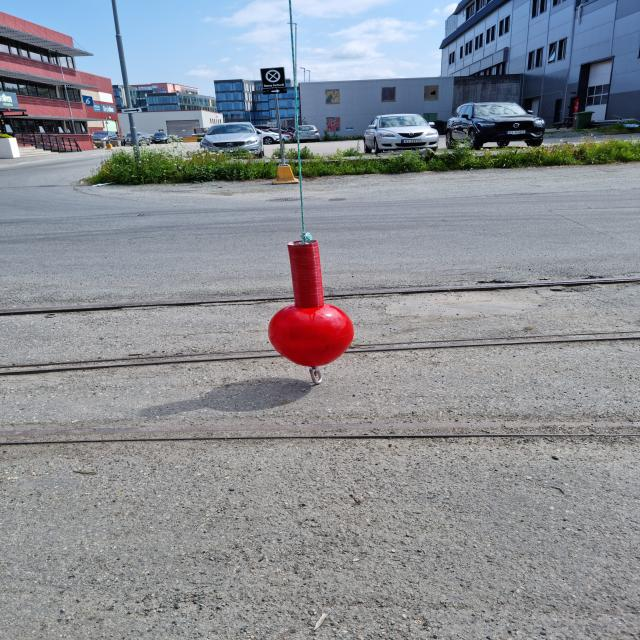red: (270, 239, 354, 367)
